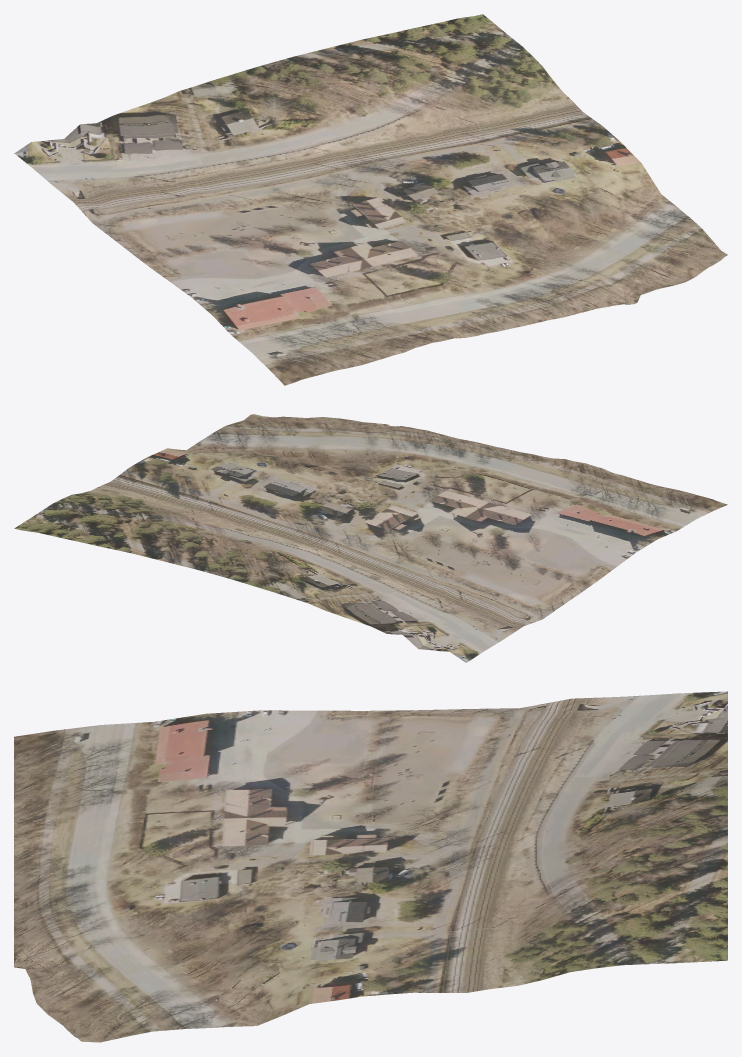
The model's file is CM_Terrain_24490049_6819794.fbx.
3 views of the same model, one above another, from view 1: azimuth 30°, elevation 25°; view 2: azimuth 150°, elevation 25°; view 3: azimuth 270°, elevation 25° (orthographic). The views are drawn at different scales.
Visible parts, largest first — view 1: CM_Terrain_24490049_6819794_LOD0; view 2: CM_Terrain_24490049_6819794_LOD0; view 3: CM_Terrain_24490049_6819794_LOD0.
Boxes of the visible parts, <box> form: CM_Terrain_24490049_6819794_LOD0: <box>14,14,727,385</box>; CM_Terrain_24490049_6819794_LOD0: <box>14,414,727,662</box>; CM_Terrain_24490049_6819794_LOD0: <box>14,691,727,1042</box>.
Size of what is drawn, in the model's own units: 205 by 28.05 by 205.
